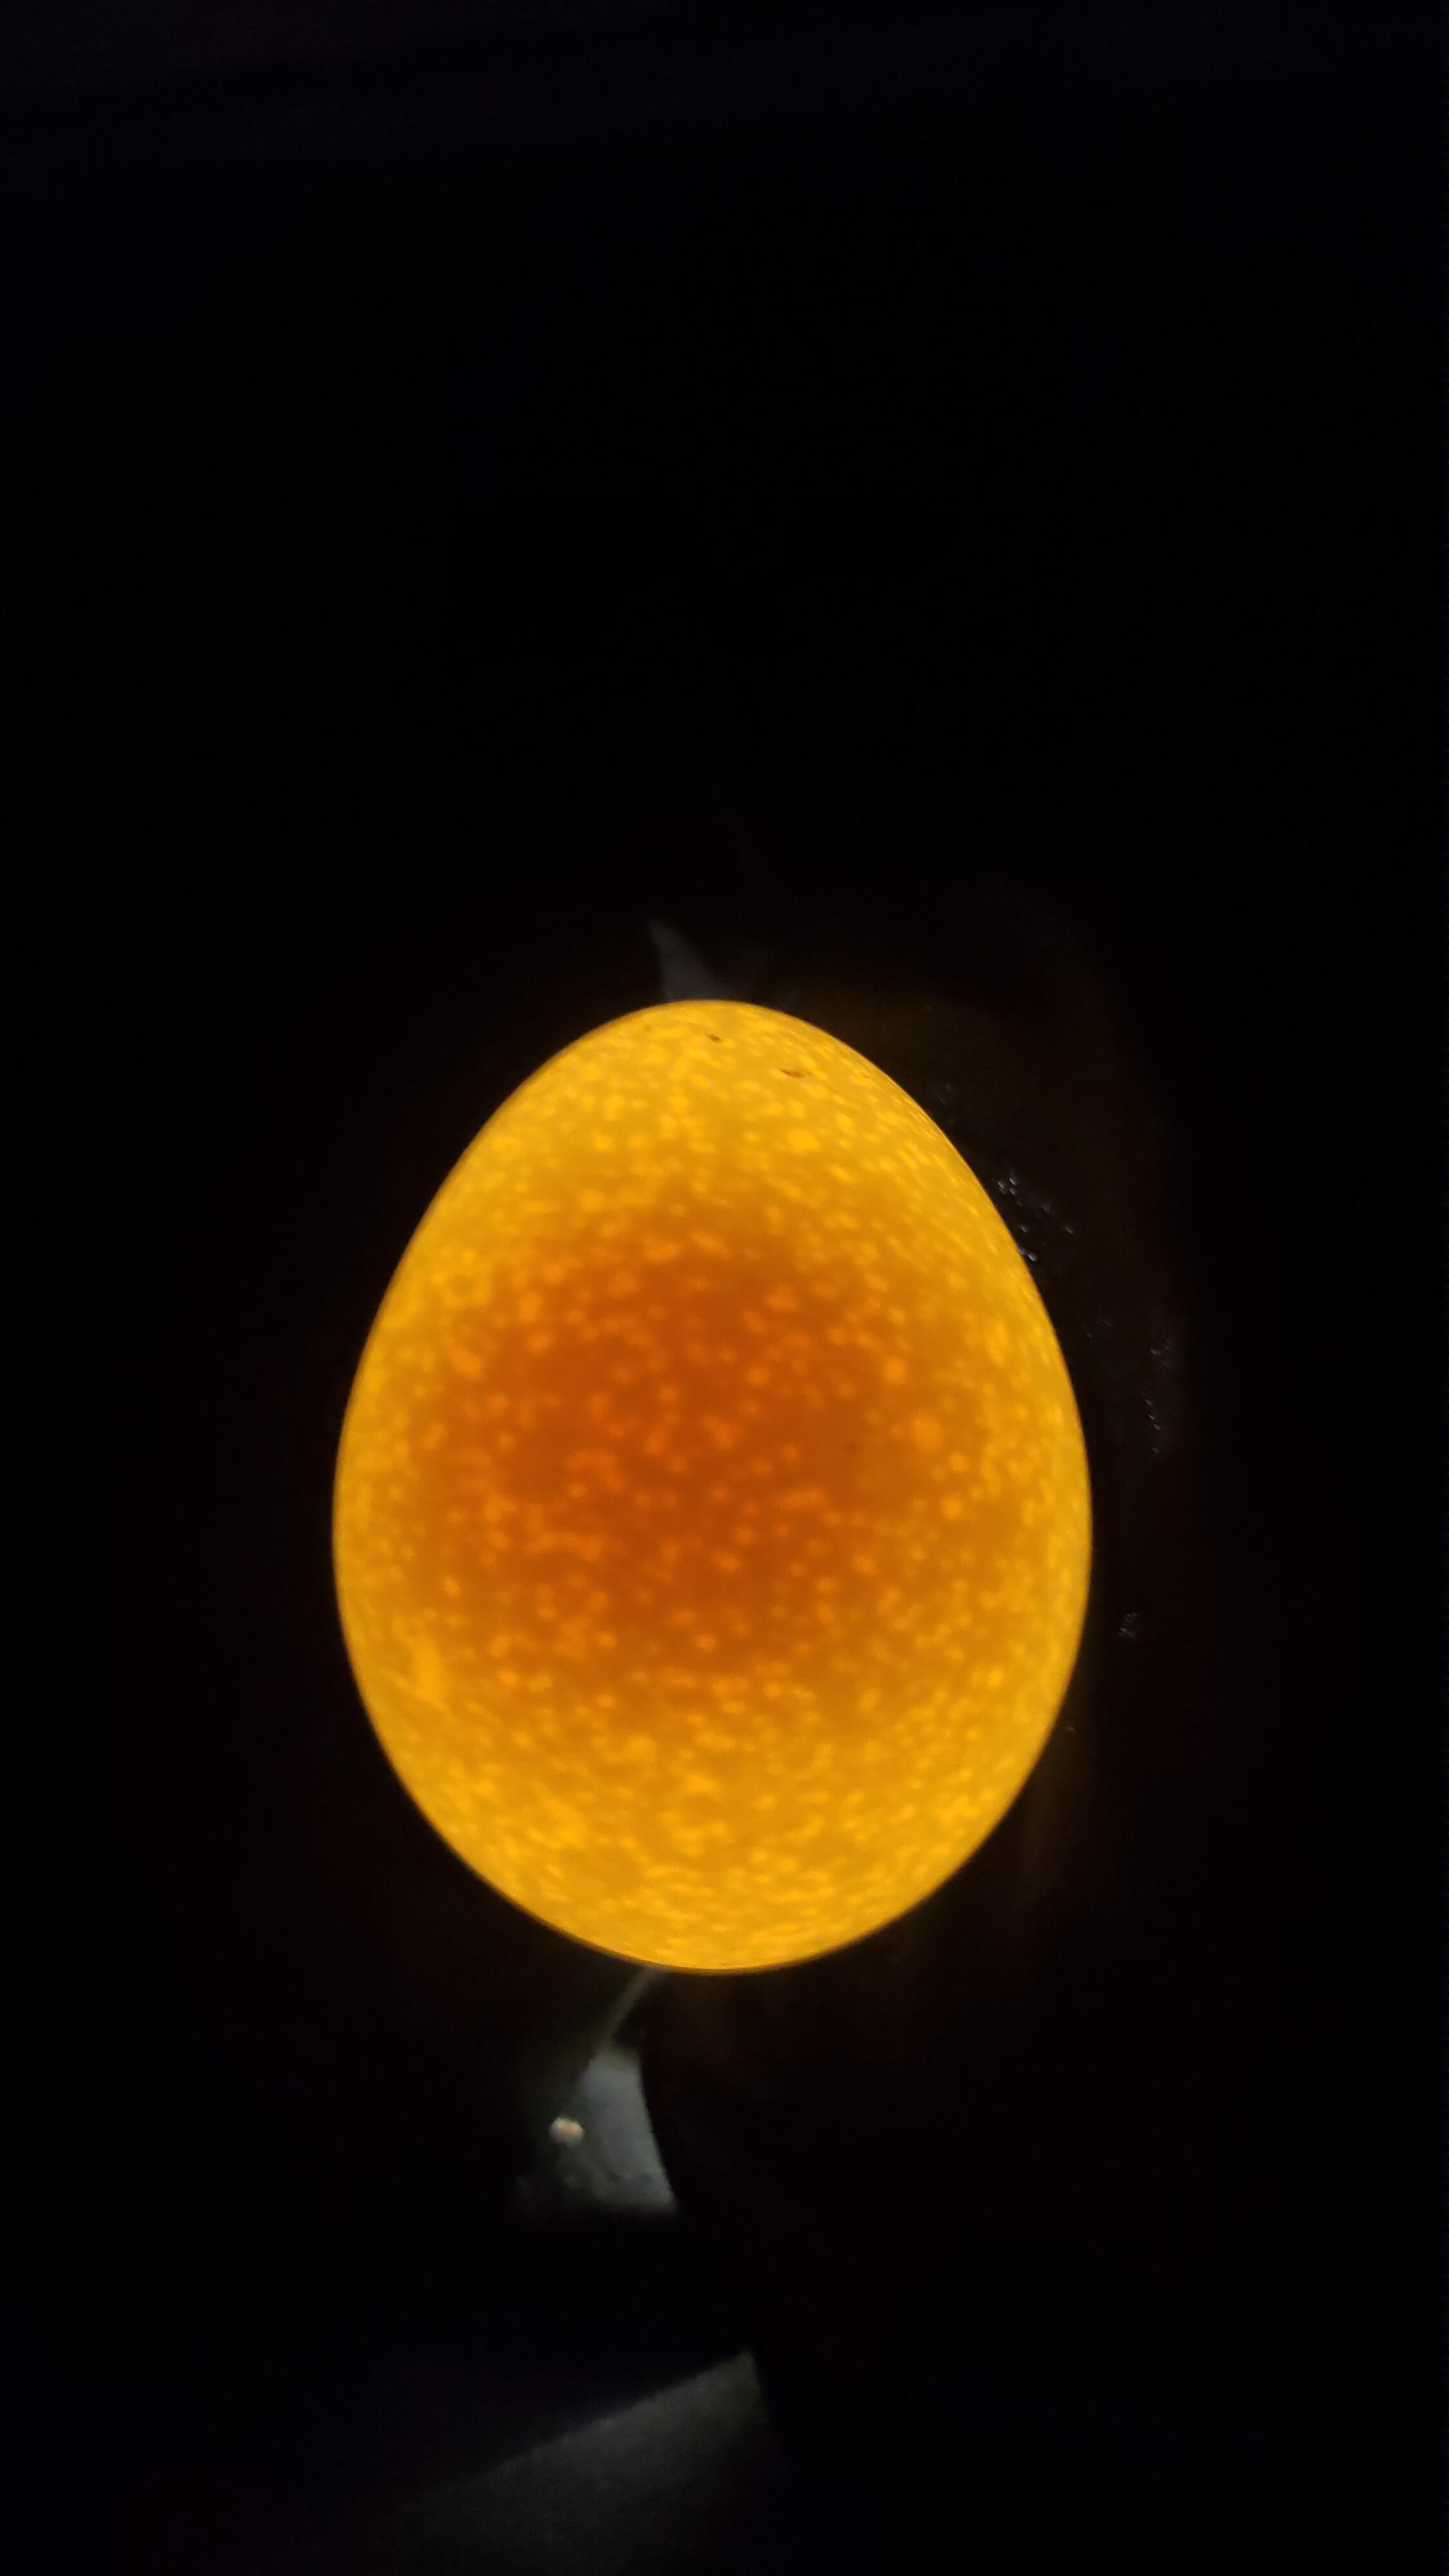A - Good: (271, 966, 1171, 2029)
